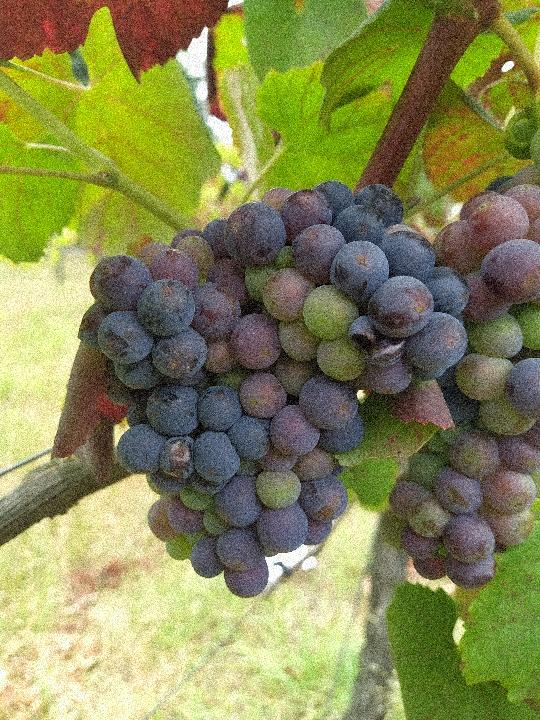grape: (75, 182, 474, 603)
